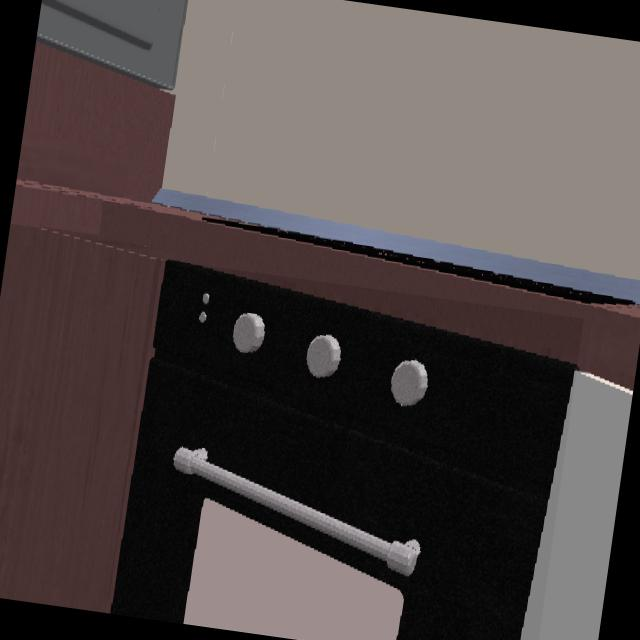oven: (106, 261, 577, 640)
